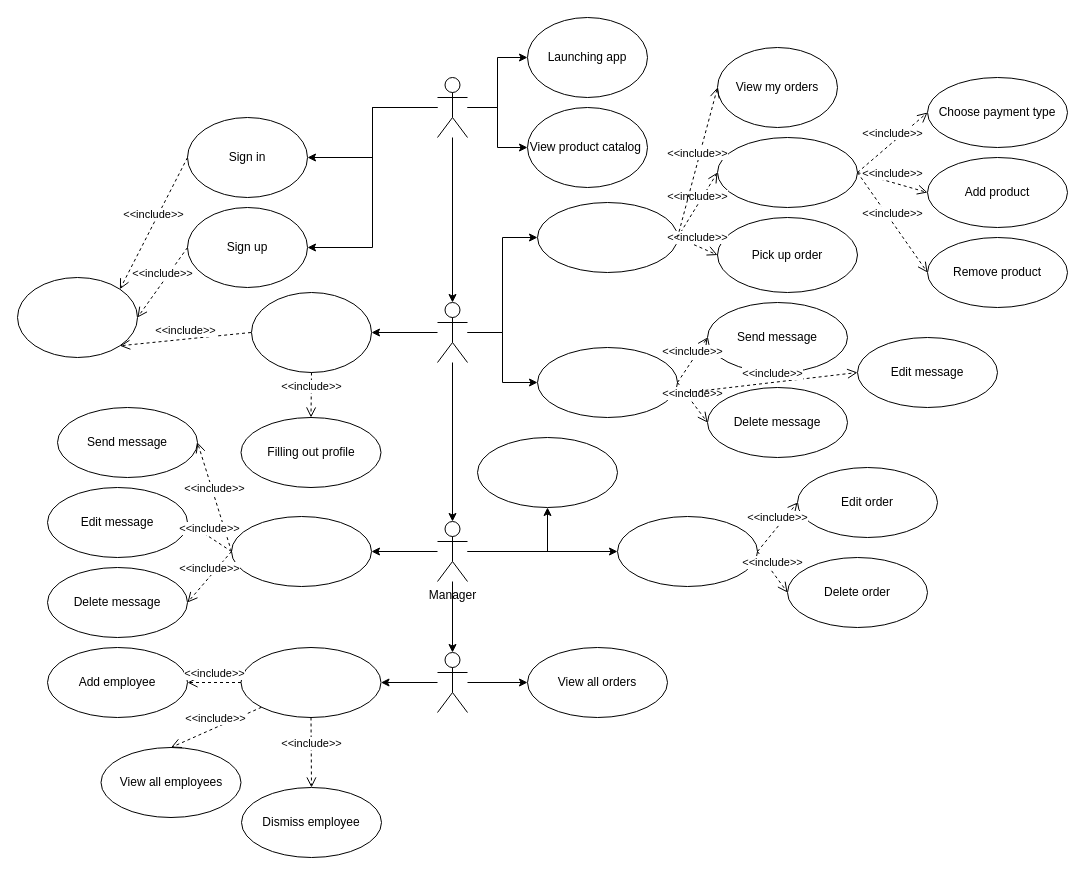
The diagram is 1085 pixels wide and 875 high, and some of its shapes have lost their labels. The box of each missing label's shape, as (x1, y1, x2, y2) in pixels:
Admin: (436, 652, 468, 712)
Authenticated: (436, 302, 468, 362)
Confirmation phone number: (16, 276, 138, 358)
Edit profile: (250, 292, 372, 372)
Make order: (716, 136, 858, 208)
Send order: (476, 436, 618, 508)
User: (436, 76, 468, 138)
Work with employees: (240, 646, 381, 718)
Work with orders: (616, 516, 758, 586)
Working with my orders: (536, 202, 678, 272)
Сommunication with buyer: (230, 516, 372, 586)
Сommunication with technical support: (536, 346, 678, 418)
